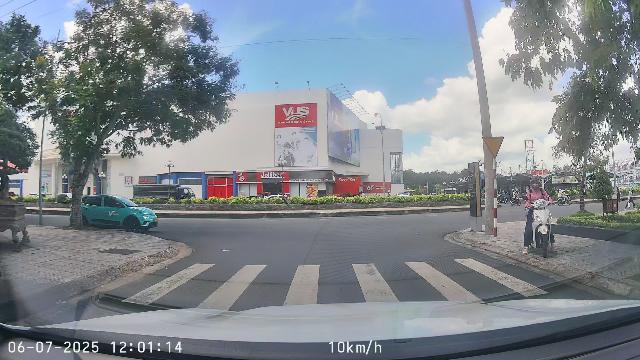208-giao-nhau-voi-duong-uu-tien: (482, 136, 503, 159)
